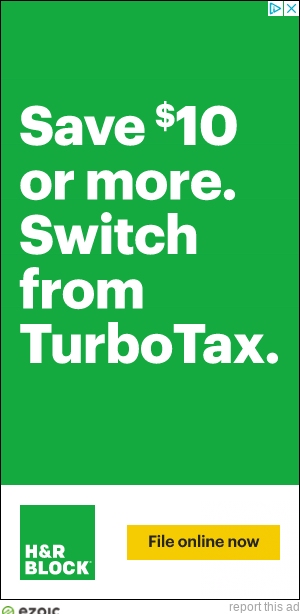fake_button: (117, 513, 289, 578)
